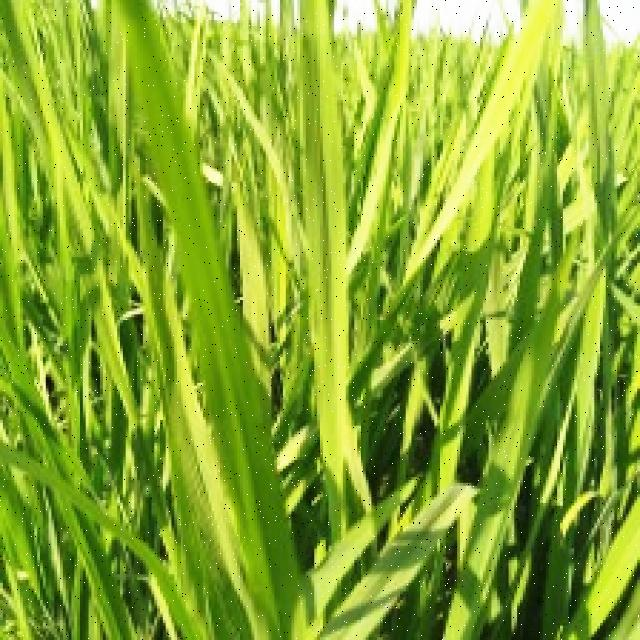health: (0, 52, 636, 556)
